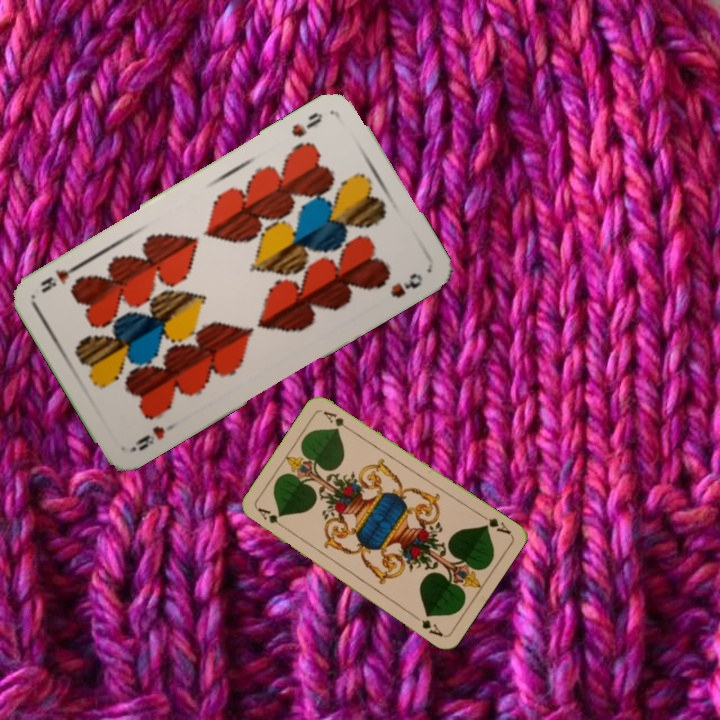GA: (254, 503, 289, 533), (476, 510, 513, 537)
H9: (127, 417, 181, 454), (287, 108, 325, 140)
